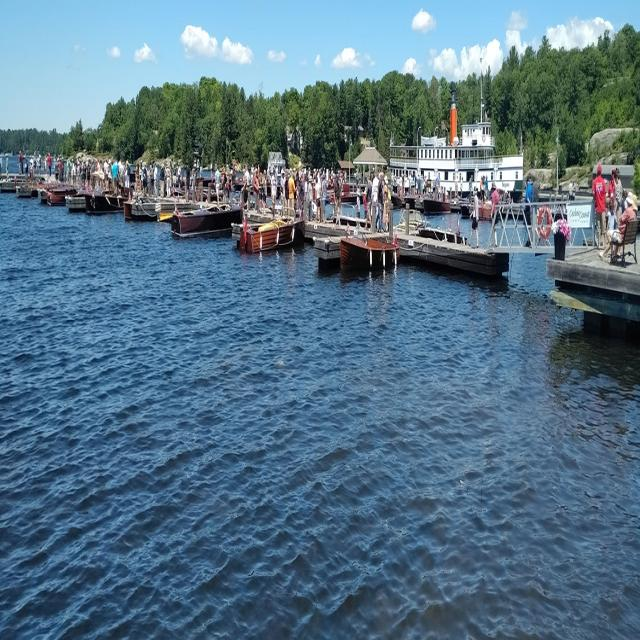skiff: (242, 206, 306, 257), (338, 234, 401, 277)
